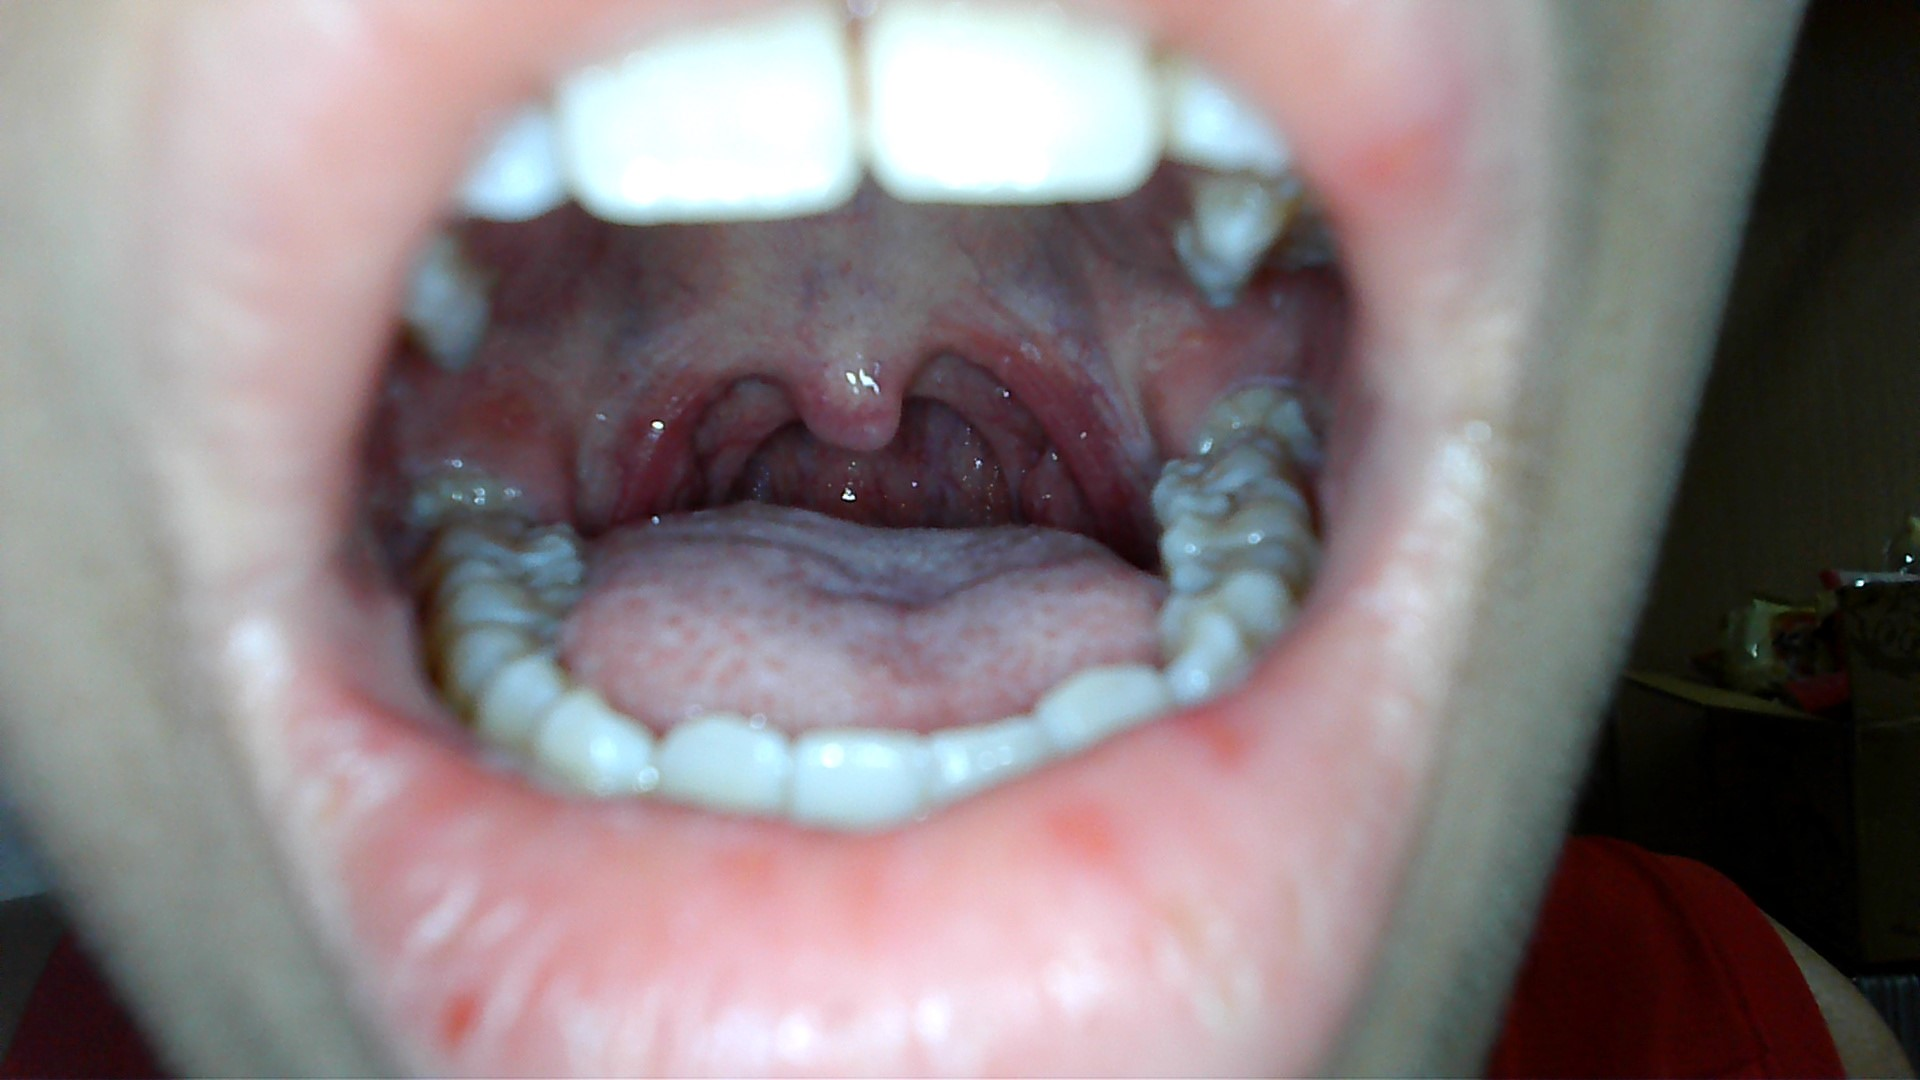throat: (994, 301, 1126, 516), (589, 320, 735, 508)
